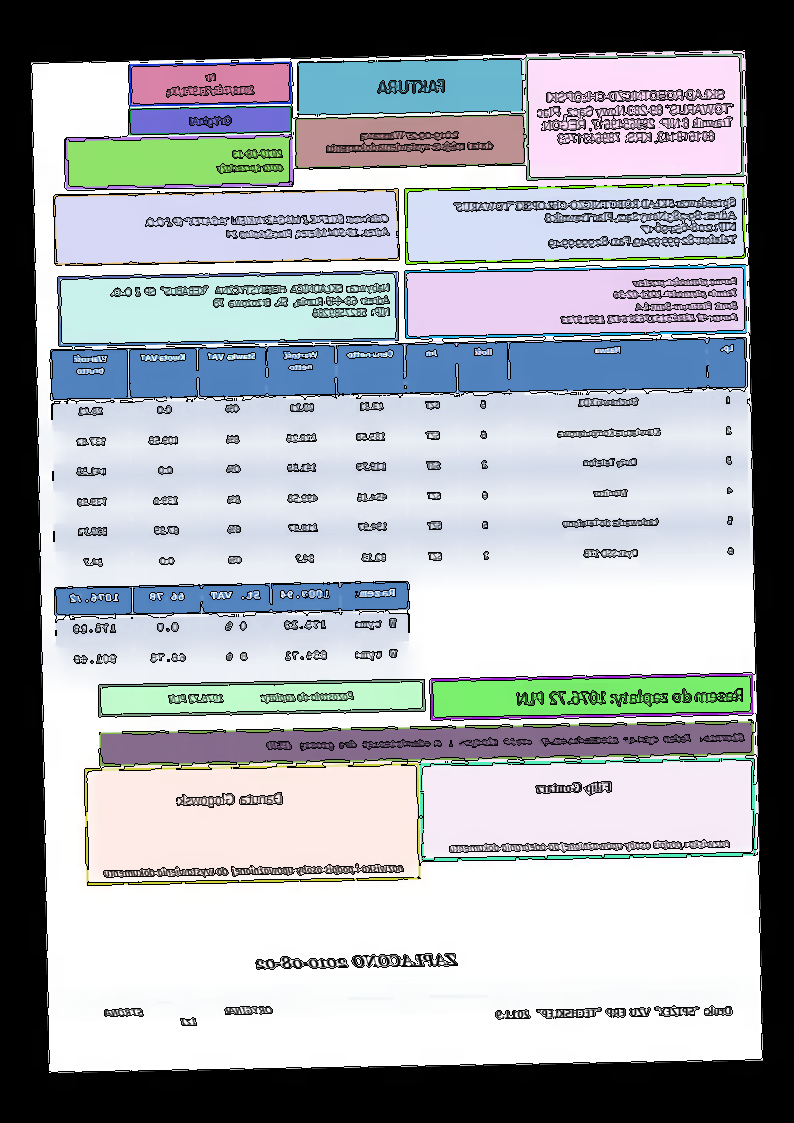Table: (51, 336, 752, 584), (53, 581, 412, 679)
TextBox: (452, 194, 740, 252), (107, 280, 393, 323), (535, 87, 737, 146), (266, 730, 747, 752), (559, 274, 740, 328), (143, 212, 391, 243), (103, 860, 406, 879), (515, 685, 745, 709), (448, 837, 732, 855), (322, 127, 496, 155), (253, 951, 463, 973), (493, 1003, 734, 1022), (101, 1004, 275, 1029), (166, 689, 355, 706), (163, 71, 257, 100), (175, 791, 284, 811), (214, 146, 286, 175), (376, 77, 448, 98), (534, 779, 614, 796), (188, 112, 235, 129)
